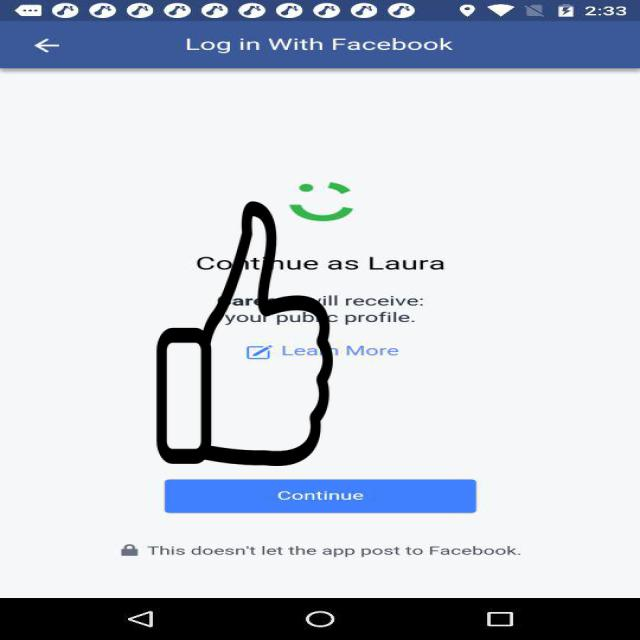privacy zuckering: (154, 201, 335, 466)
